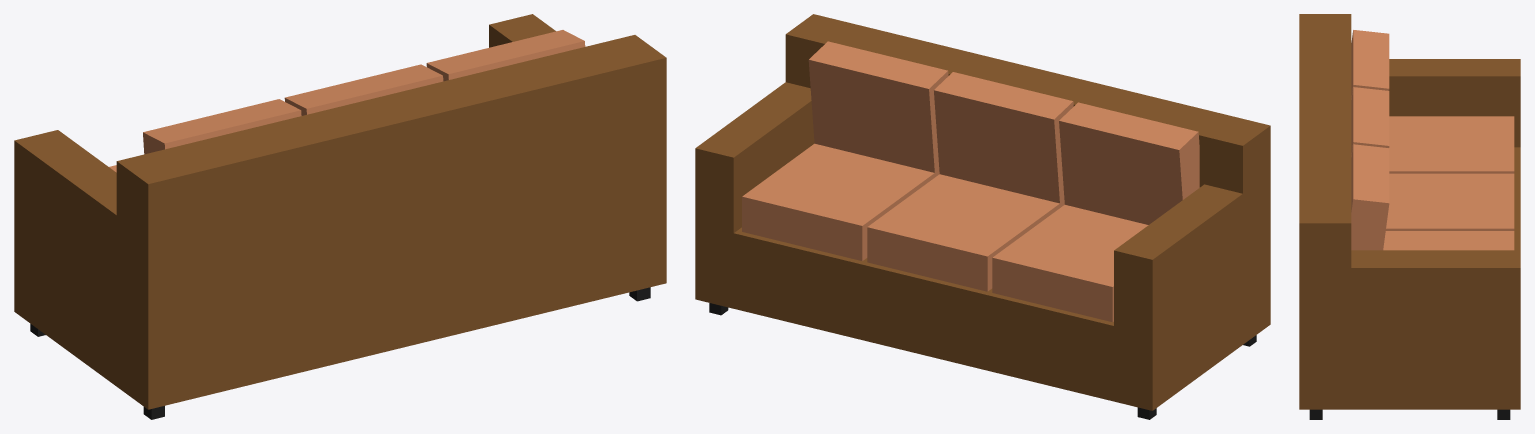
File: sofa.glb
The picture shows the model from 3 angles, left to right: view 1: azimuth 30°, elevation 25°; view 2: azimuth 150°, elevation 25°; view 3: azimuth 270°, elevation 25°; orthographic projection. The views are drawn at different scales.
Visible parts, largest first — view 1: sofa; view 2: sofa; view 3: sofa.
Part boxes in pixels (x1,y1,x2,y2): sofa: (14, 14, 666, 419); sofa: (695, 14, 1270, 419); sofa: (1299, 14, 1520, 419).
Bounding box in the file's own units: 1.9 × 0.8671 × 0.85.
